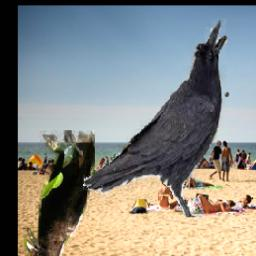Crow: (83, 17, 227, 217), (24, 130, 96, 256)
